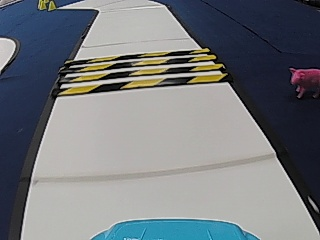bump: (48, 47, 232, 94)
